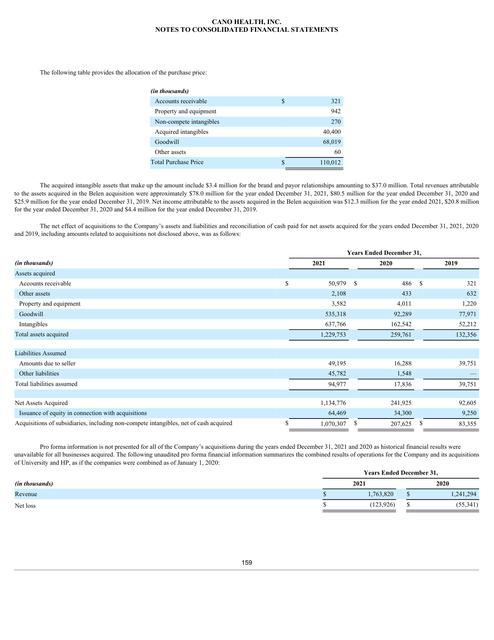box: (10, 248, 482, 433), (8, 469, 483, 515), (148, 85, 345, 172)
